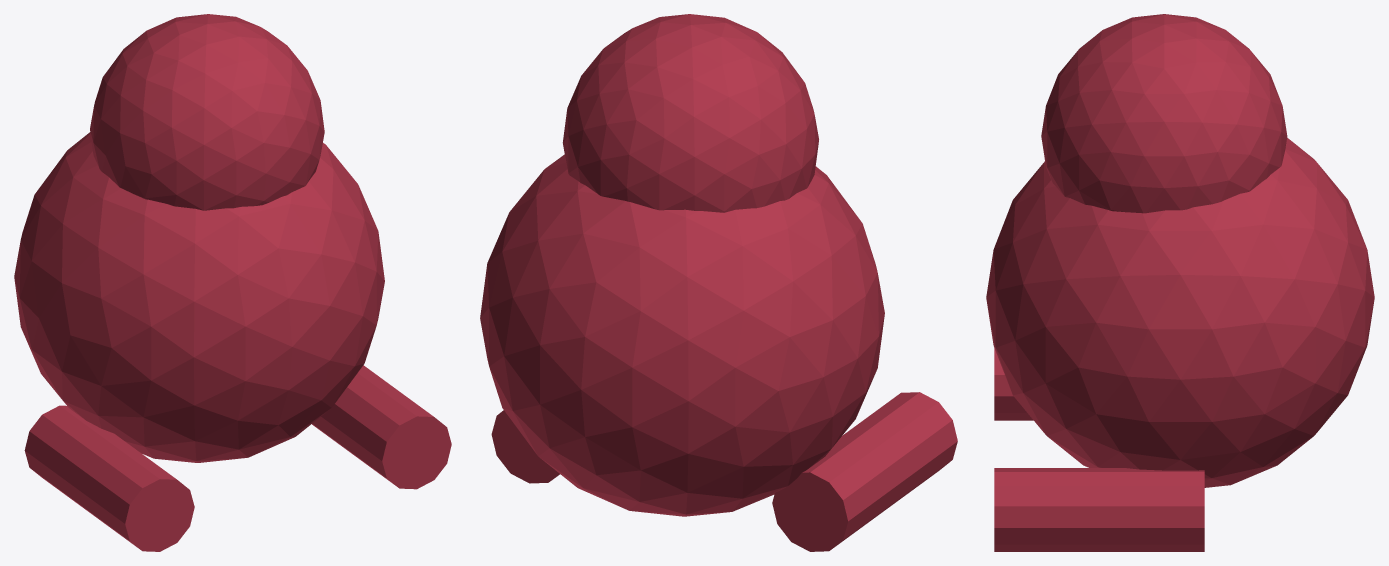
The model's file is luxury_201.glb.
3 renders of one model, left to right at view 1: azimuth 30°, elevation 25°; view 2: azimuth 150°, elevation 25°; view 3: azimuth 270°, elevation 25°, orthographic. The views are drawn at different scales.
Parts seen in each view (by area): view 1: world; view 2: world; view 3: world.
Boxes of the visible parts, x1,y1,x2,y2 form: world: [14, 14, 451, 551]; world: [480, 14, 957, 551]; world: [986, 14, 1374, 551].
Bounding box in the file's own units: 1.22 × 1.56 × 1.2.
